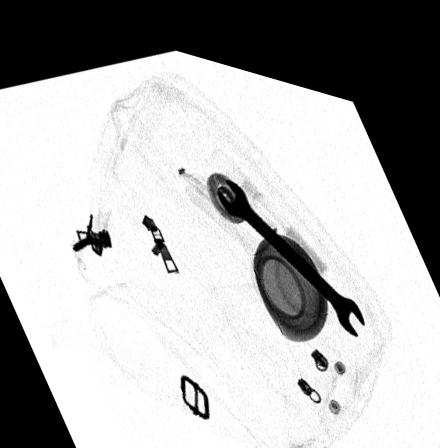Wrench: (213, 165, 363, 320)
